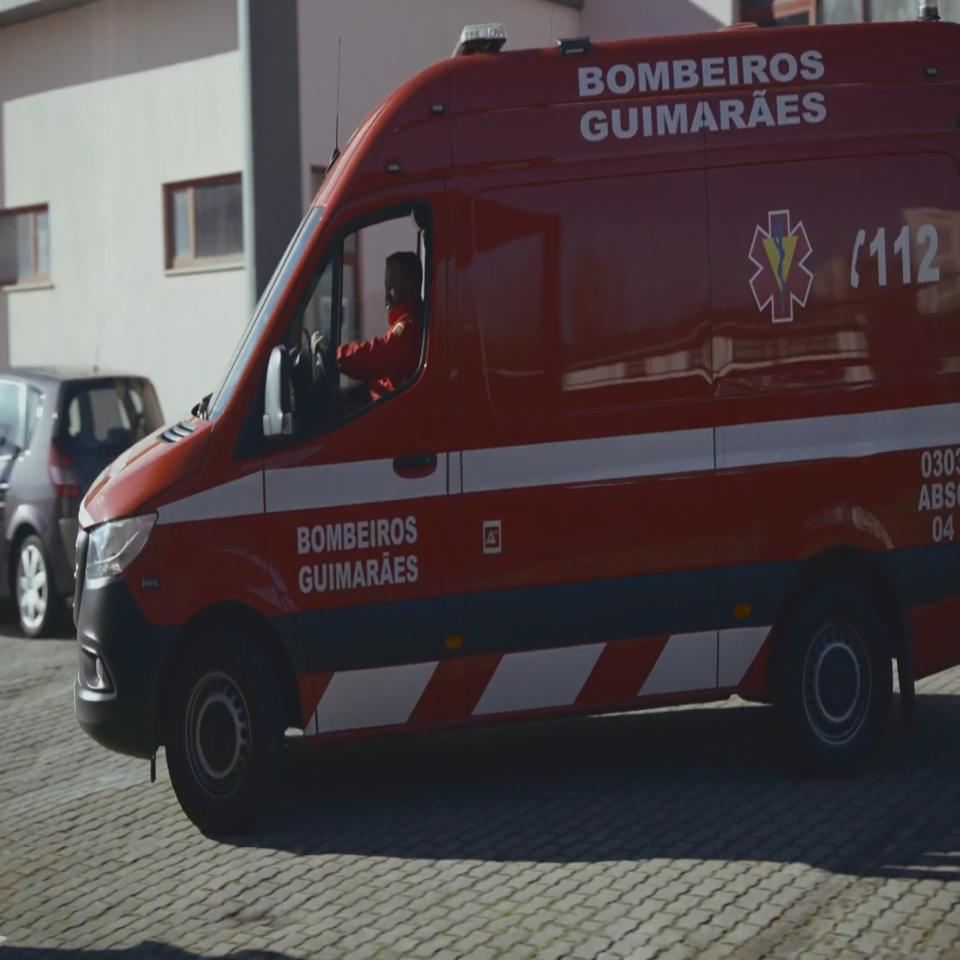bombeiro: (72, 20, 960, 831)
